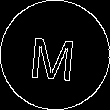M_N: (30, 28, 80, 82)
